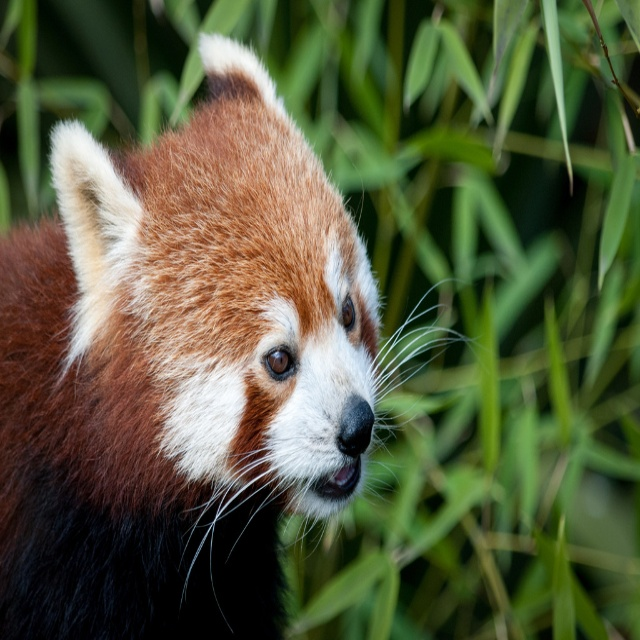Red panda: (0, 31, 481, 639)
